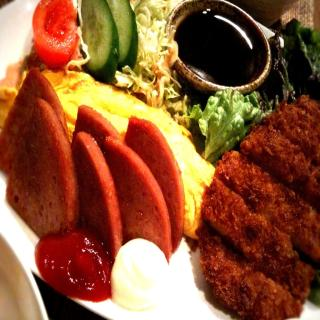tomato: (30, 7, 79, 72)
